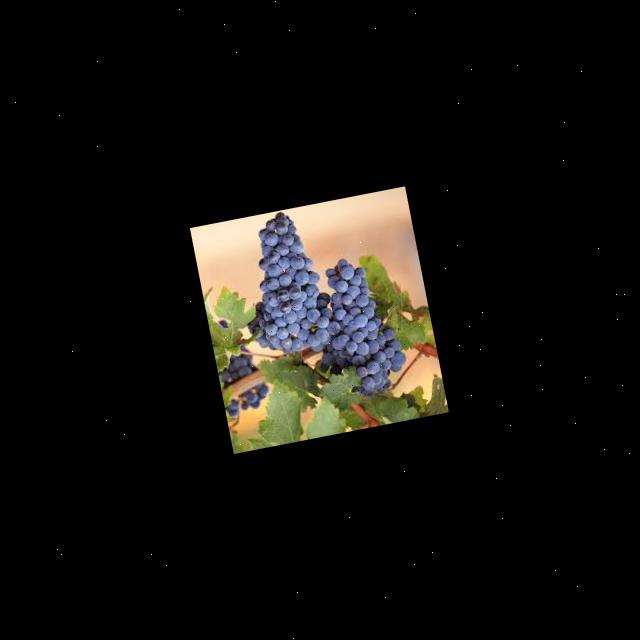grape: (228, 194, 412, 418)
